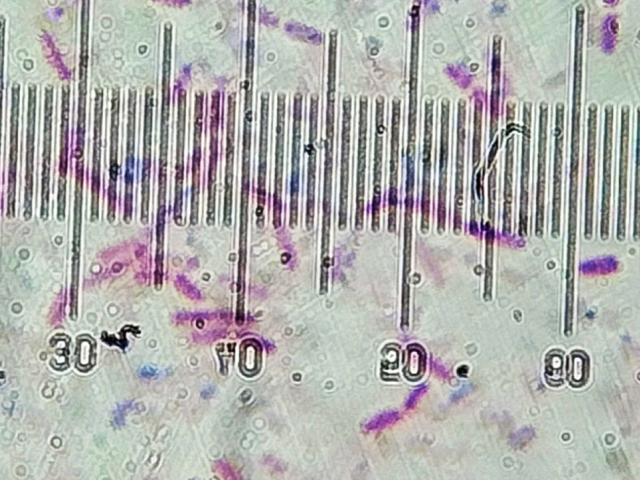E. coli: (459, 215, 530, 254), (196, 327, 275, 351), (31, 23, 65, 74), (201, 450, 251, 480), (362, 406, 411, 435), (173, 303, 247, 322), (282, 22, 328, 47), (596, 10, 623, 51), (583, 253, 625, 279), (271, 229, 297, 270), (408, 343, 447, 370), (139, 269, 180, 294), (442, 66, 472, 94), (45, 286, 68, 322), (402, 382, 434, 407), (88, 262, 124, 282), (169, 66, 196, 91), (105, 240, 140, 259), (179, 276, 201, 303), (258, 2, 279, 23)
